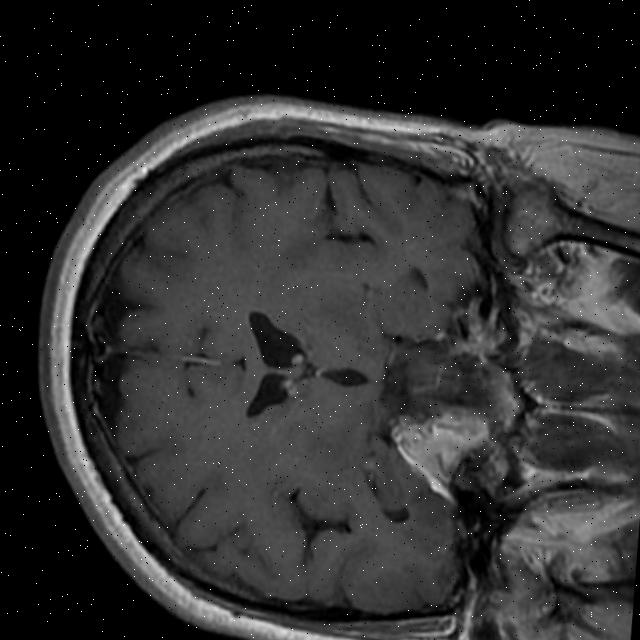Meningioma: (380, 395, 496, 511)
